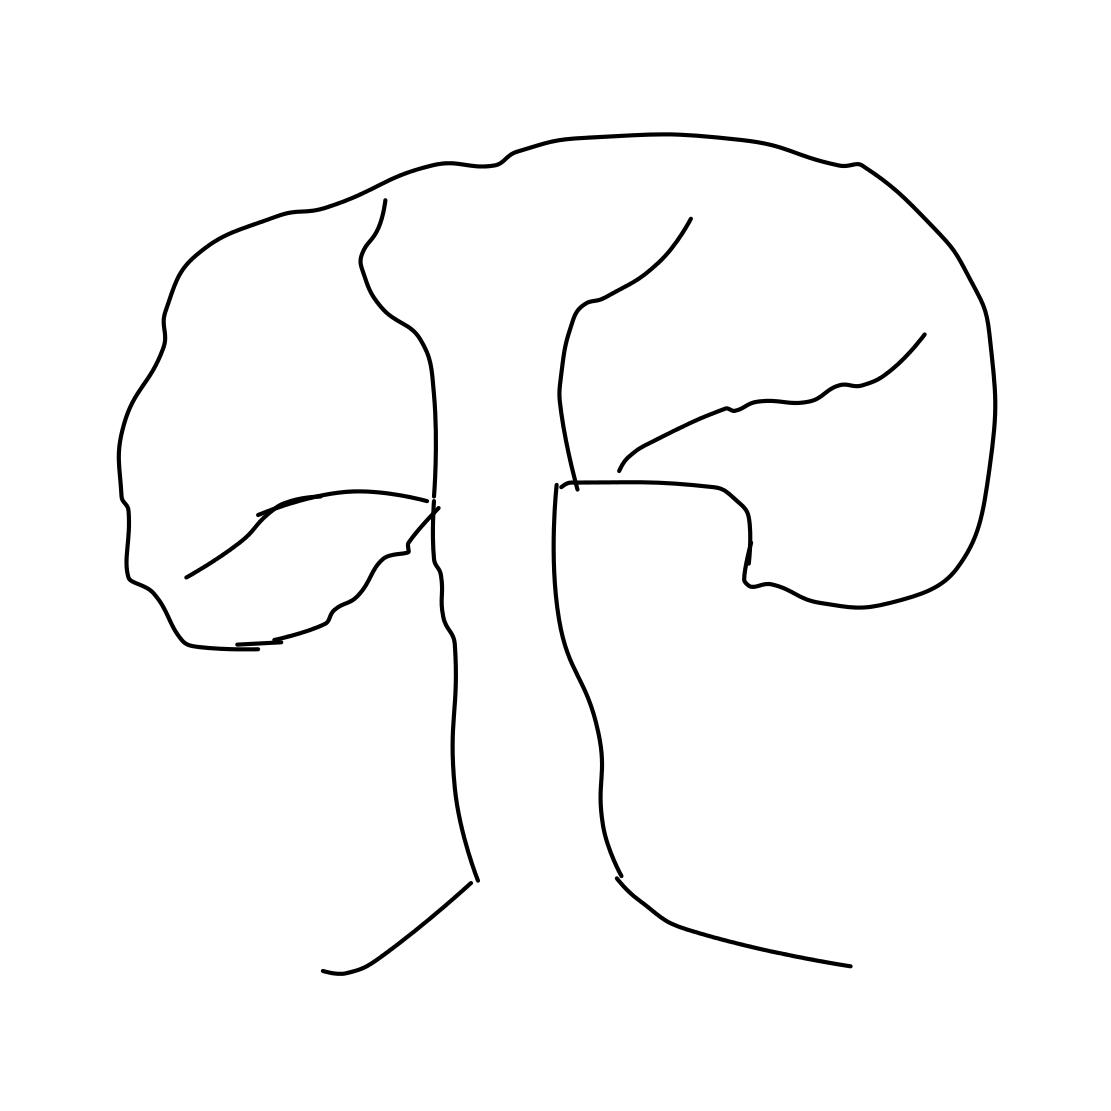Tree: (53, 109, 1015, 998)
